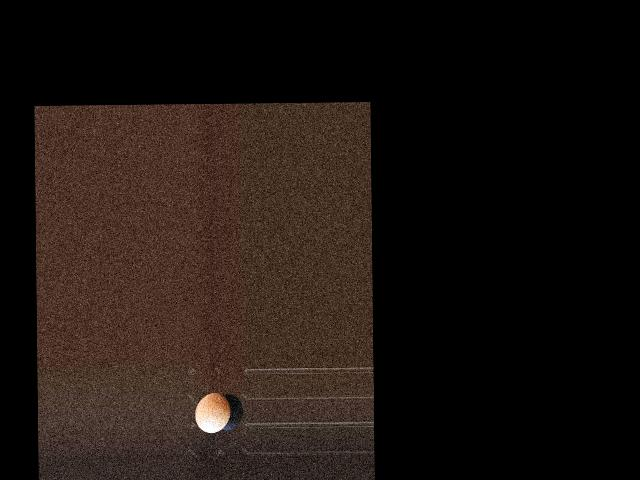egg: (195, 392, 231, 433)
